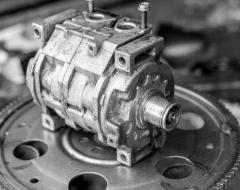electronic: (25, 3, 201, 163)
